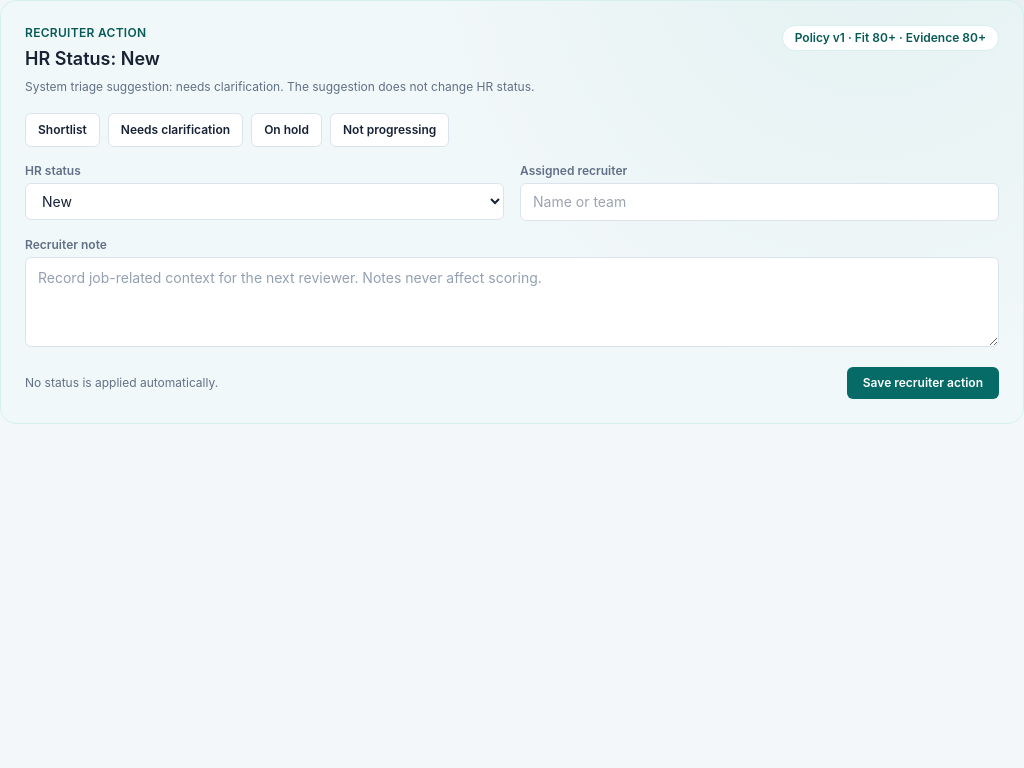
Scenario: requires a reason before saving Not progressing
The image size is (1024, 768).
Check: the text "System triage suggestion: needs clarification" is shown, box [25, 77, 534, 97]
What coordinates should you click on to do the following:
click the button "Not progressing"
I would click on:
 (390, 130)
Its box is [330, 113, 449, 147].
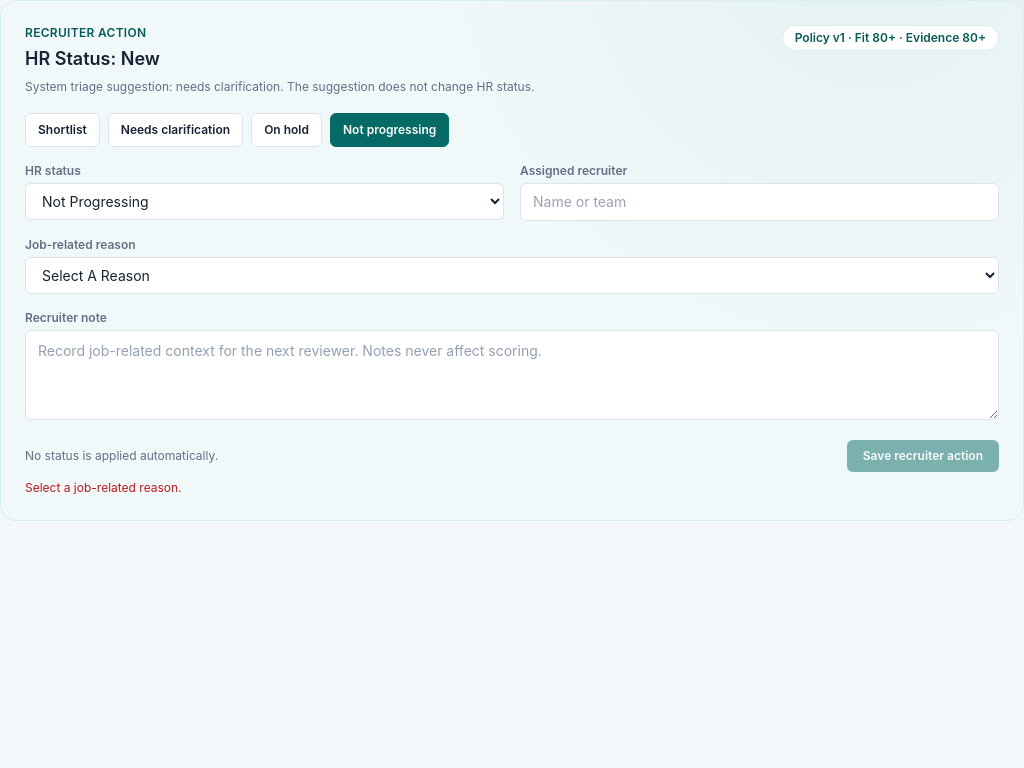
Check: the text "Select a job-related reason." is shown, box [25, 480, 182, 495]
Check: the button "Save recruiter action" is disabled, box [847, 440, 999, 472]
